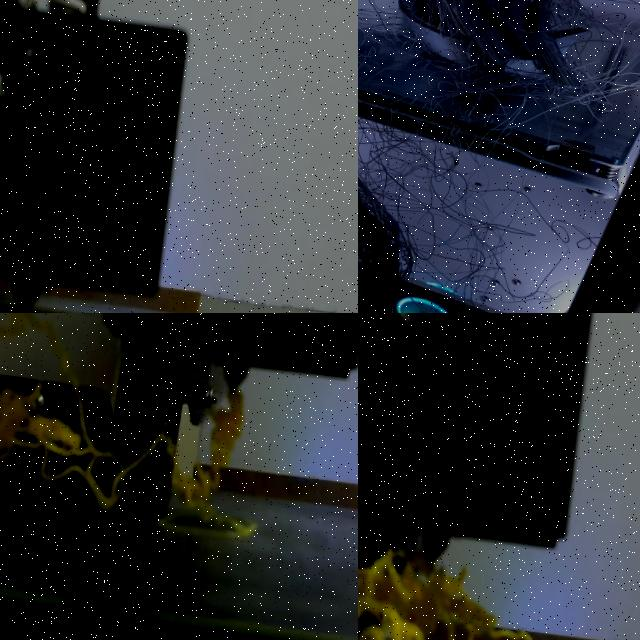spaghetti: (358, 0, 640, 313), (0, 313, 255, 536), (358, 550, 531, 640)
